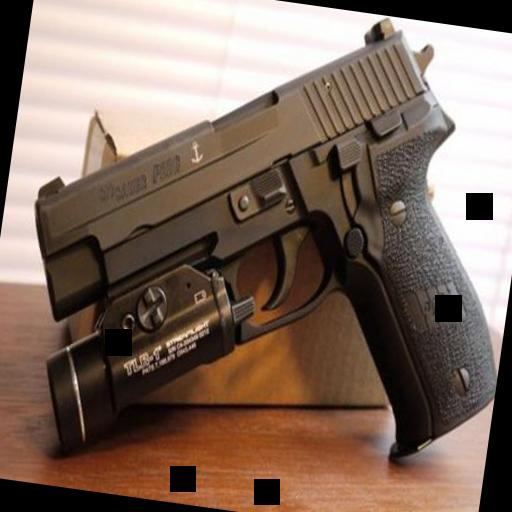Handgun: (0, 0, 512, 475)
